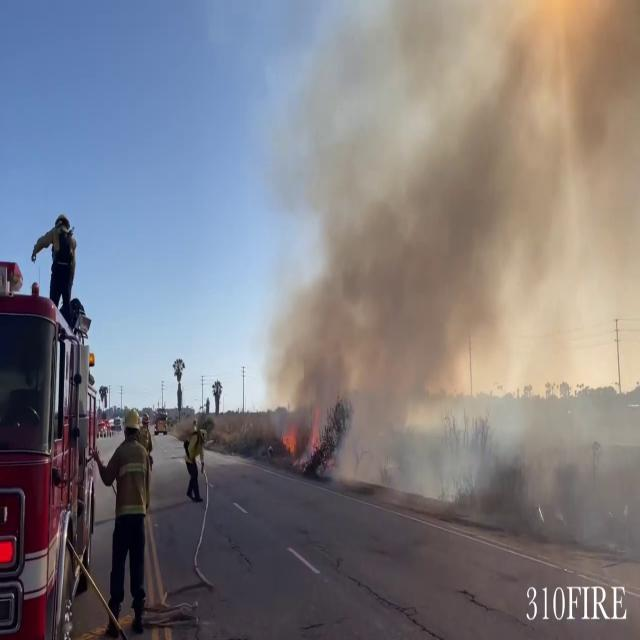Smoke: (267, 0, 623, 466)
